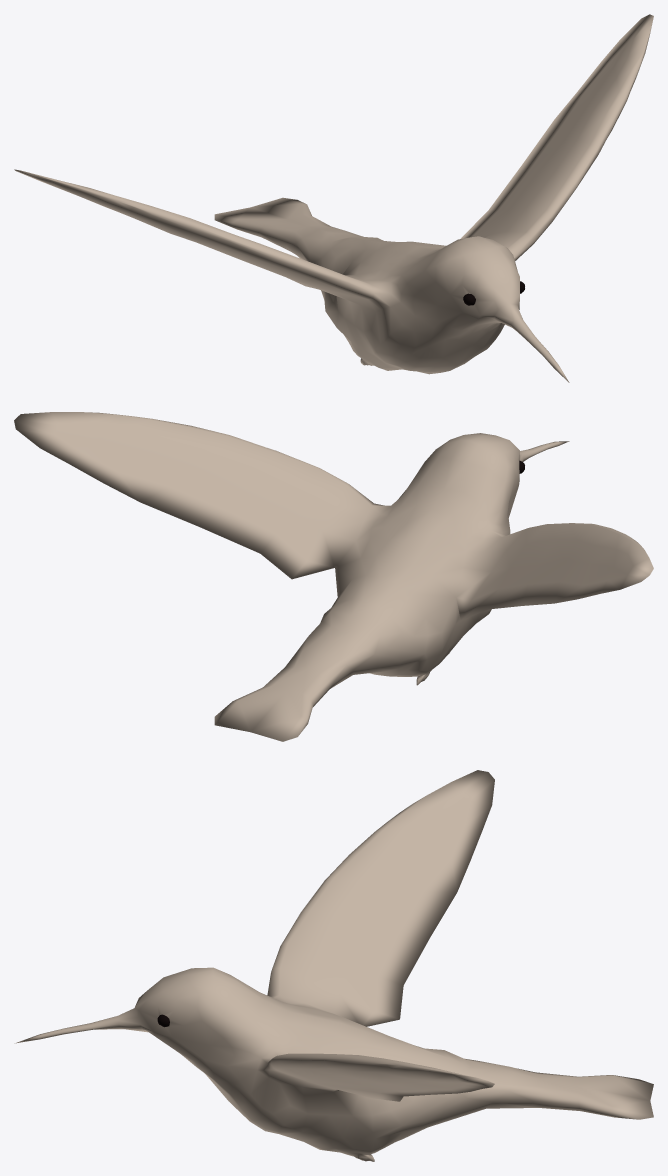
The model's file is bird.obj.
The picture shows the model from 3 angles, top to bottom: view 1: azimuth 30°, elevation 25°; view 2: azimuth 150°, elevation 25°; view 3: azimuth 270°, elevation 25°; orthographic projection.
Visible parts, largest first — view 1: humbird; view 2: humbird; view 3: humbird.
Boxes of the visible parts, x1=… form: humbird: x1=14, y1=14, x2=653, y2=382; humbird: x1=14, y1=412, x2=653, y2=741; humbird: x1=14, y1=770, x2=653, y2=1161.
Size of the model in its own units: 0.1008 by 0.0341 by 0.0882.
